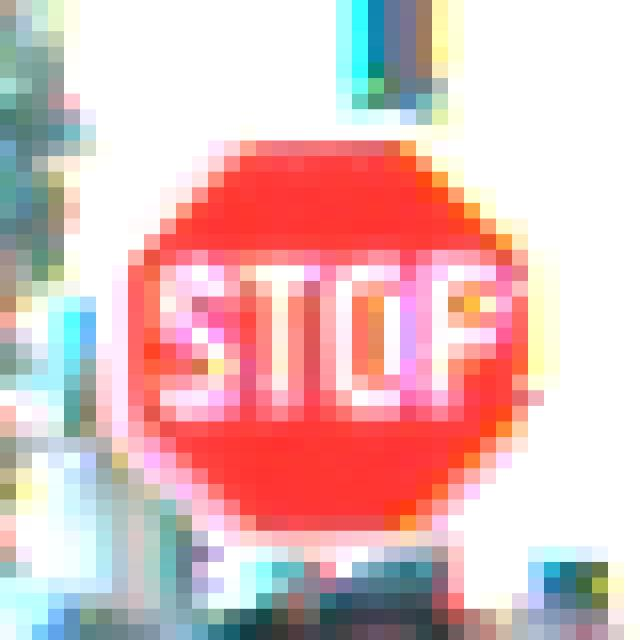STOP: (81, 95, 561, 563)
